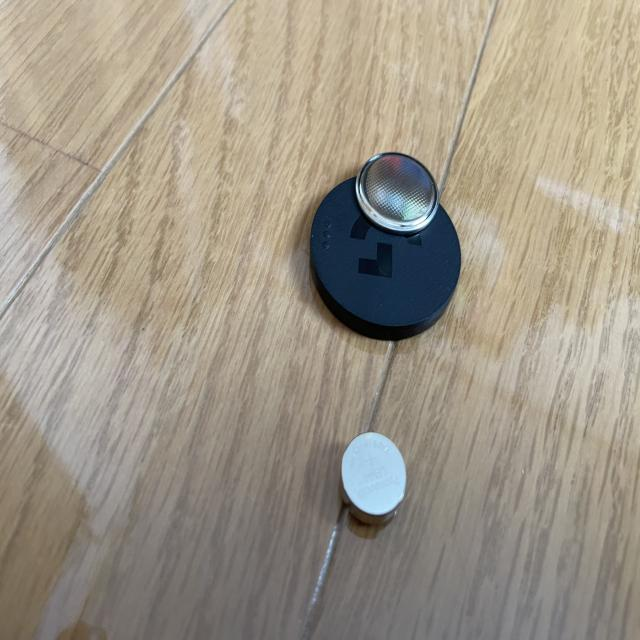COIN: (354, 150, 440, 236), (339, 433, 406, 528)
